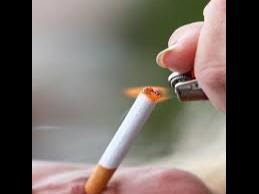Cigarette: (85, 85, 162, 194)
